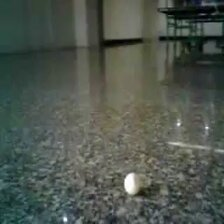w: (124, 172, 142, 195)
